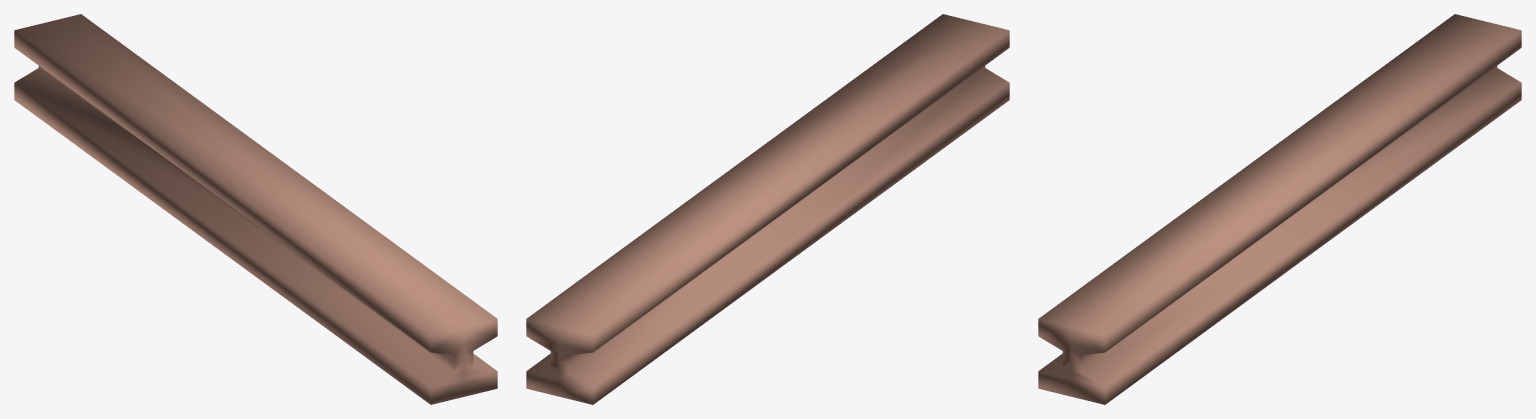
The model's file is ironbar.fbx.
3 views of the same model, side by side, from view 1: azimuth 30°, elevation 25°; view 2: azimuth 150°, elevation 25°; view 3: azimuth 330°, elevation 25° (orthographic).
Parts seen in each view (by area): view 1: Cube; view 2: Cube; view 3: Cube.
Part boxes in pixels (x1,y1,x2,y2): Cube: (14,14,497,404); Cube: (526,14,1009,404); Cube: (1038,14,1521,404).
Bounding box in the file's own units: 2 × 2 × 21.62.
